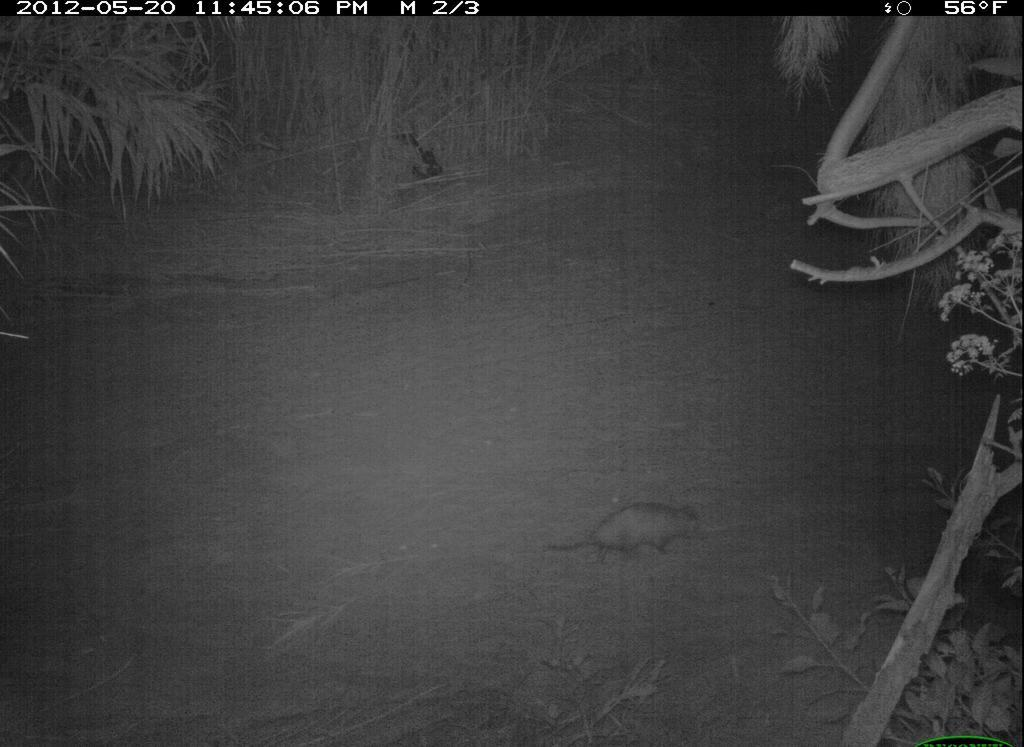opossum: (541, 500, 717, 574)
